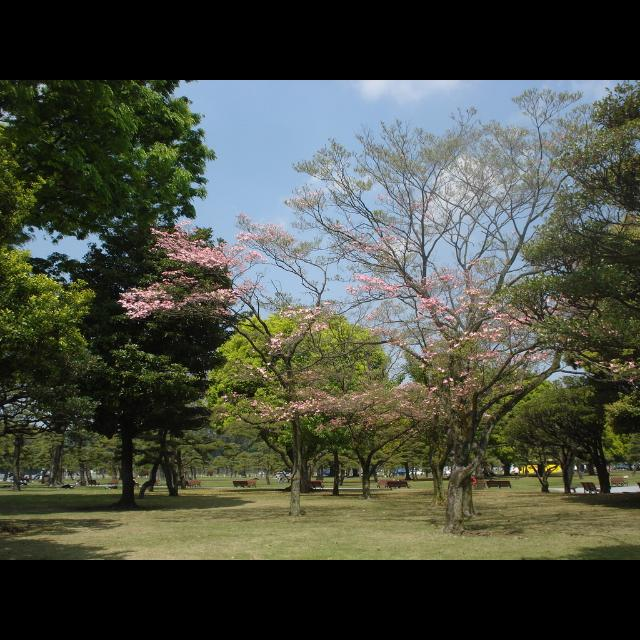Flower: (213, 192, 639, 440), (114, 218, 266, 322), (232, 210, 304, 270), (280, 187, 322, 210), (270, 334, 278, 344)
